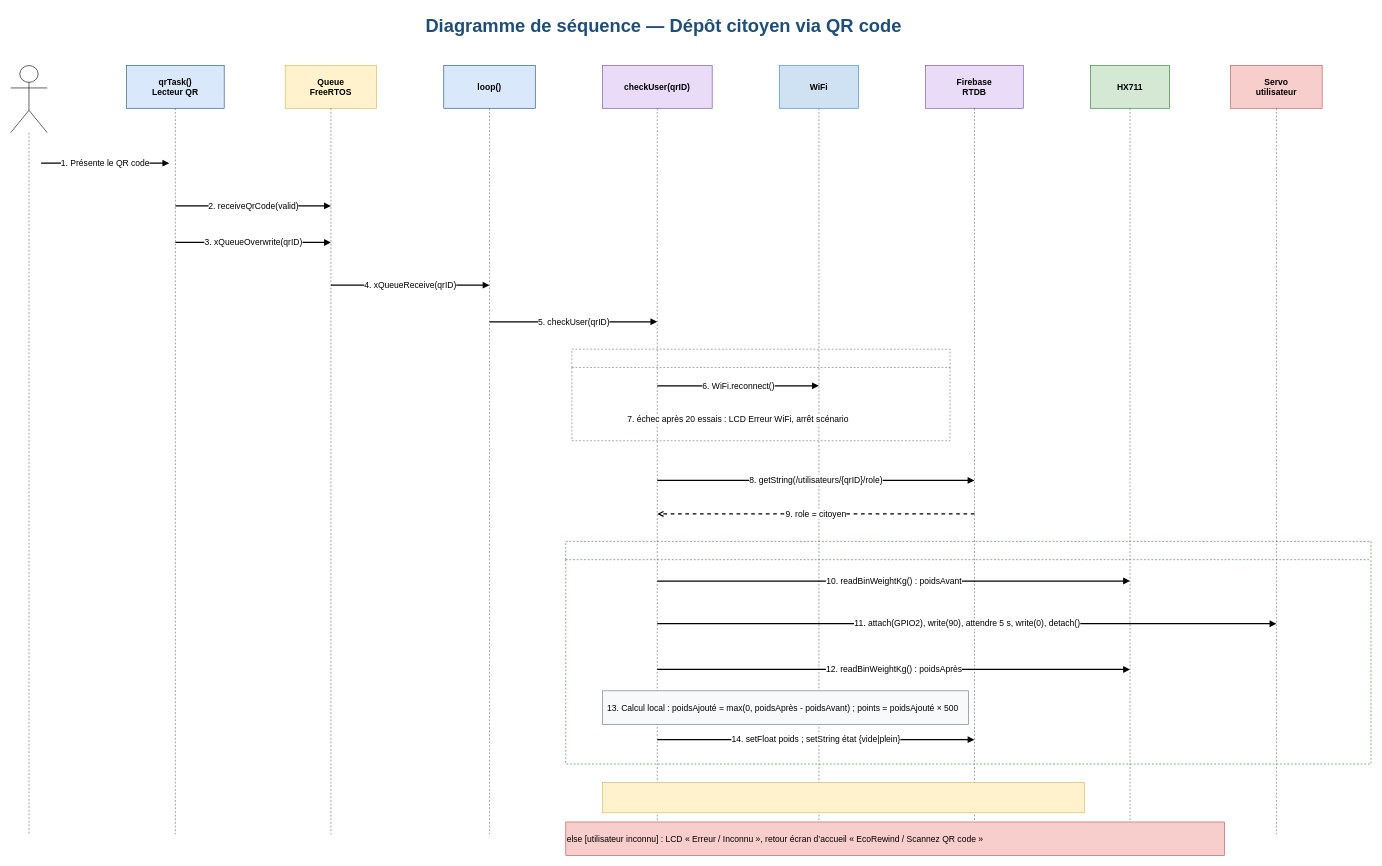
This 1382x866 diagram has some shape labels left out. The shapes that lost their labels are listed below. From the top down, each one's box as (x1, y1, x2, y2) in pixels, then its label:
(10, 65, 47, 133): Citoyen
(571, 349, 950, 441): alt [Wi-Fi déconnecté]
(565, 541, 1371, 764): alt [utilisateur connu et rôle = citoyen]
(602, 782, 1084, 813): opt [points > 0] : getInt(score), setInt(score + points)
